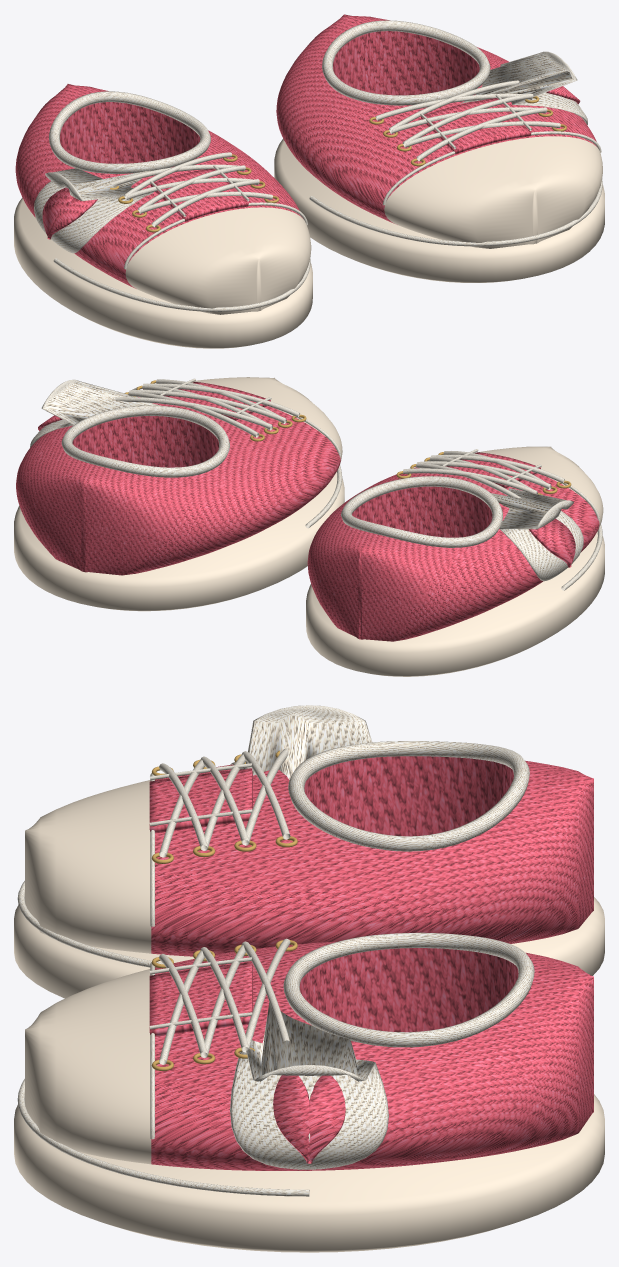
The model's file is restart_shoes_heart_chick.glb.
3 renders of one model, top to bottom at view 1: azimuth 30°, elevation 25°; view 2: azimuth 150°, elevation 25°; view 3: azimuth 270°, elevation 25°, orthographic. The views are drawn at different scales.
Visible parts, largest first — view 1: Calzado · Left · Zapatilla cosida completa, Calzado · Right · Zapatilla cosida completa; view 2: Calzado · Left · Zapatilla cosida completa, Calzado · Right · Zapatilla cosida completa; view 3: Calzado · Left · Zapatilla cosida completa, Calzado · Right · Zapatilla cosida completa.
Part boxes in pixels (box(x1,y1,x2,y2)): Calzado · Left · Zapatilla cosida completa: box(274, 14, 604, 282); Calzado · Right · Zapatilla cosida completa: box(14, 84, 312, 348); Calzado · Left · Zapatilla cosida completa: box(14, 377, 344, 611); Calzado · Right · Zapatilla cosida completa: box(306, 446, 604, 676); Calzado · Left · Zapatilla cosida completa: box(14, 932, 604, 1252); Calzado · Right · Zapatilla cosida completa: box(14, 705, 604, 998).
Bounding box in the file's own units: 0.504 × 0.1202 × 0.327.
Materials: 4 (2 with a texture image).
